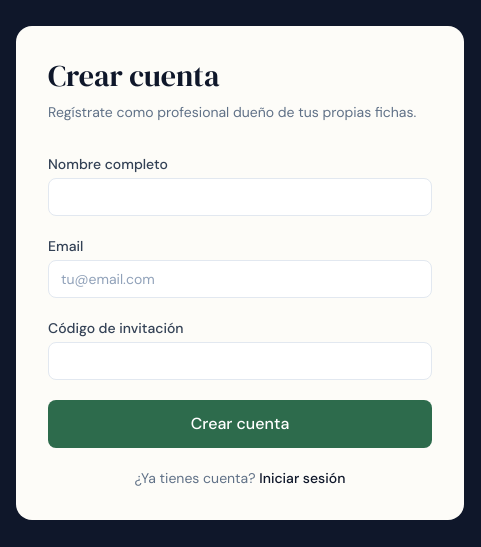
Scenario: SignupPage — registro por invitación (suscripciones apagadas) › exige el código de invitación y no muestra el campo promocional
In the field labelled "Nombre completo": (240, 197) [48,178,432,216], type "Ana Pérez"
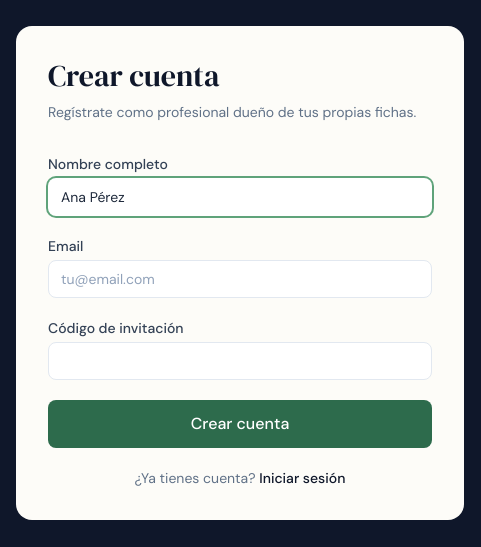
In the field labelled "Email": (240, 279) [48,260,432,298], type "ana@umbral.cl"
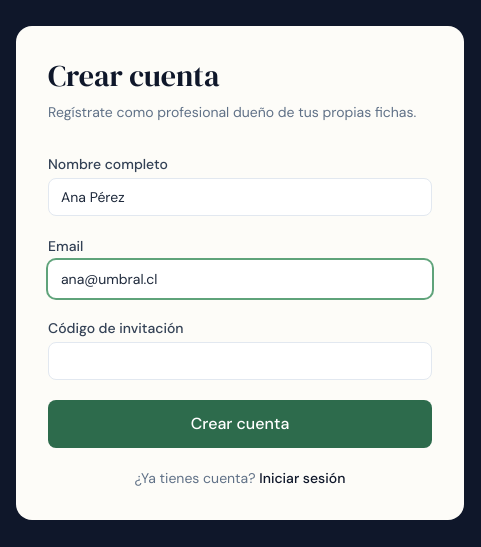
Click the button "Crear cuenta": (240, 424) [48,400,432,448]
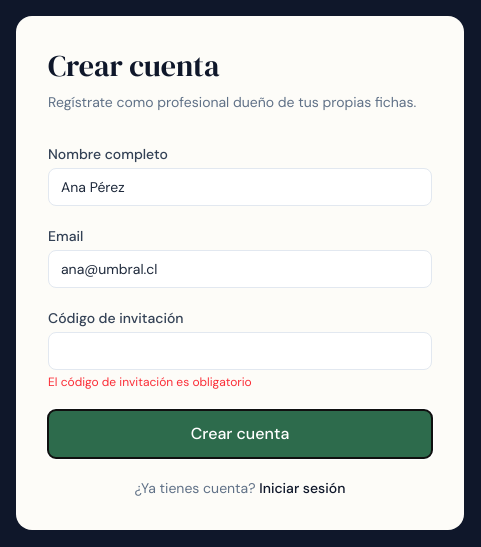
expect the text "El código de invitación es obligatorio" is shown: met, box [48,374,252,390]
